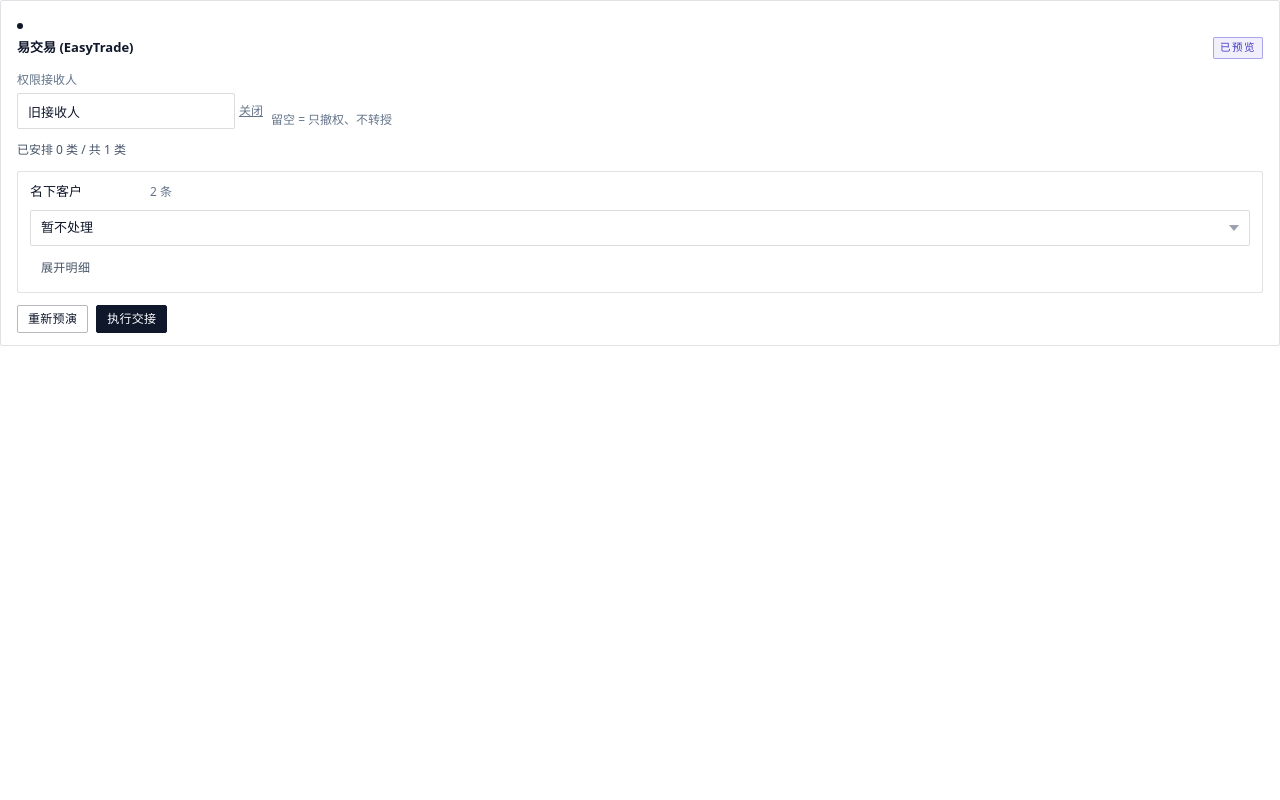
Test: HandoverActionPanel › ea-fe-panels-02: execute 412 清掉 items/overrides 缓存并关闭确认
Click the button with test id "execute-handover". click: (132,318)
box: [96,304,167,332]
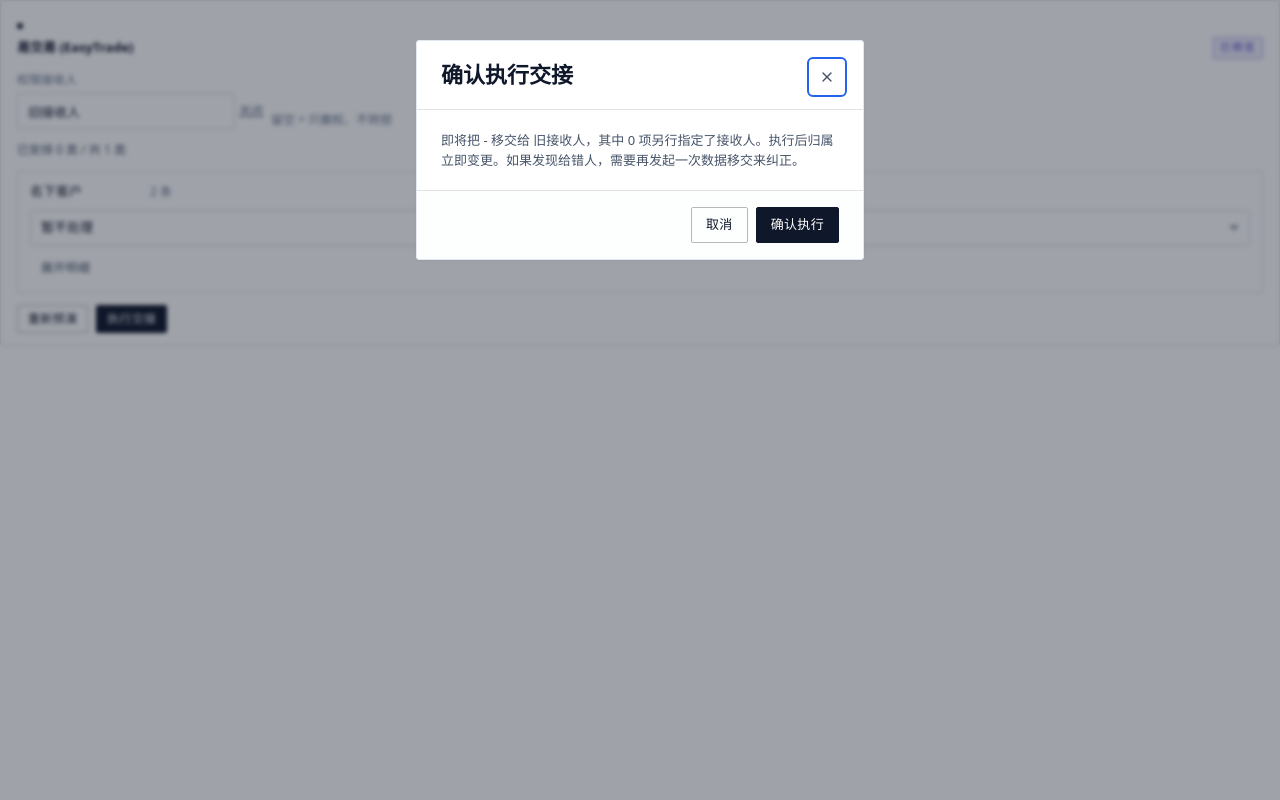
Click the button with test id "execute-confirm". click: (797,225)
box: [756,207,839,243]
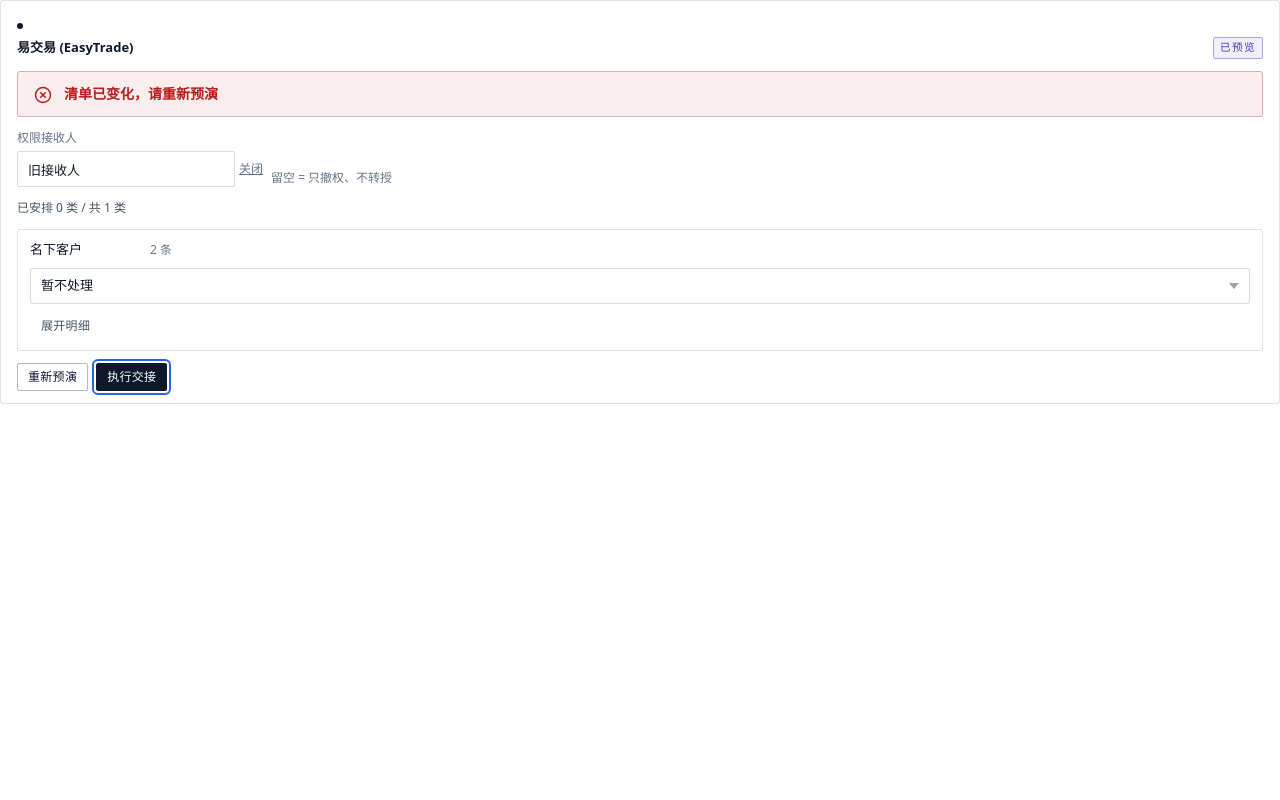
Result: the button with test id "execute-confirm" is gone
Result: the text "清单已变化，请重新预演" is shown at [64,84,218,104]
